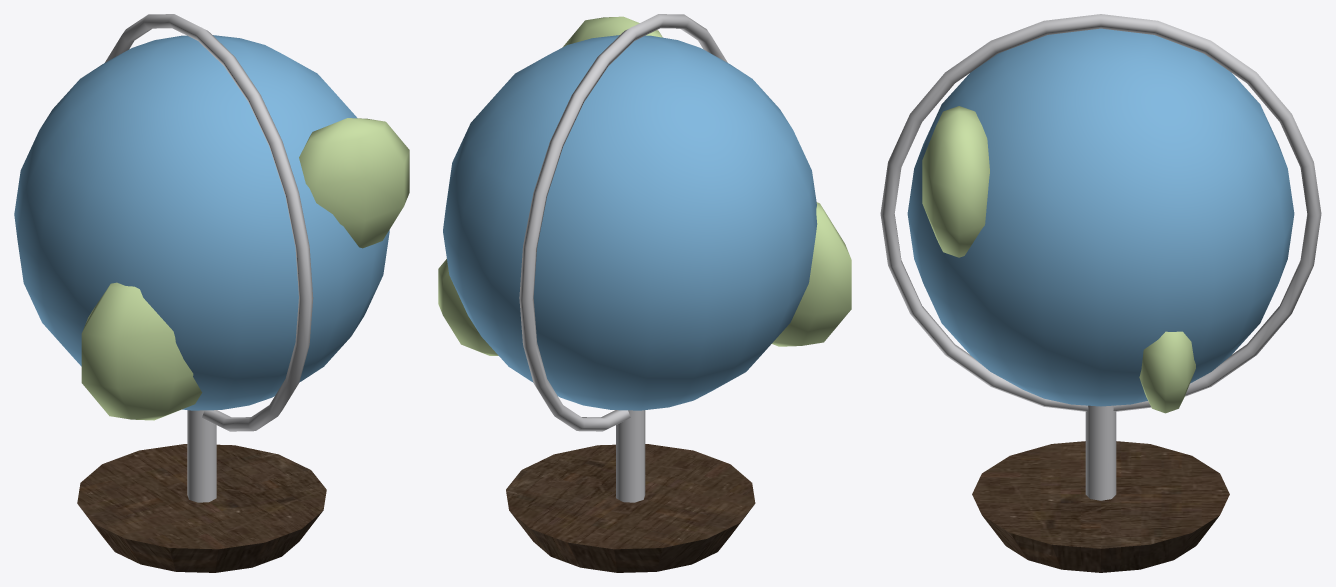
The model's file is globe.glb.
3 renders of one model, left to right at view 1: azimuth 30°, elevation 25°; view 2: azimuth 150°, elevation 25°; view 3: azimuth 270°, elevation 25°, orthographic. The views are drawn at different scales.
Parts seen in each view (by area): view 1: tint_ocean, wood, land, metal; view 2: tint_ocean, wood, metal, land; view 3: tint_ocean, wood, metal, land.
Boxes of the visible parts, <box> form: tint_ocean: <box>14,35,389,410</box>; wood: <box>77,444,326,572</box>; land: <box>81,118,409,420</box>; metal: <box>105,14,313,502</box>; tint_ocean: <box>443,35,817,410</box>; wood: <box>506,444,755,572</box>; metal: <box>519,14,727,502</box>; land: <box>438,16,851,355</box>; tint_ocean: <box>907,28,1294,406</box>; wood: <box>972,441,1229,572</box>; metal: <box>880,14,1321,500</box>; land: <box>922,106,1195,413</box>.
Size of the model in its own units: 0.3066 by 0.441 by 0.342.
4 materials, 1 textured.
